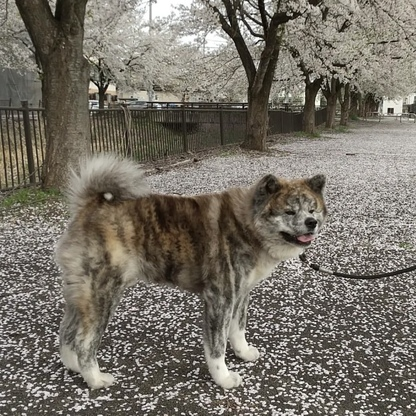akita: (47, 146, 329, 393)
